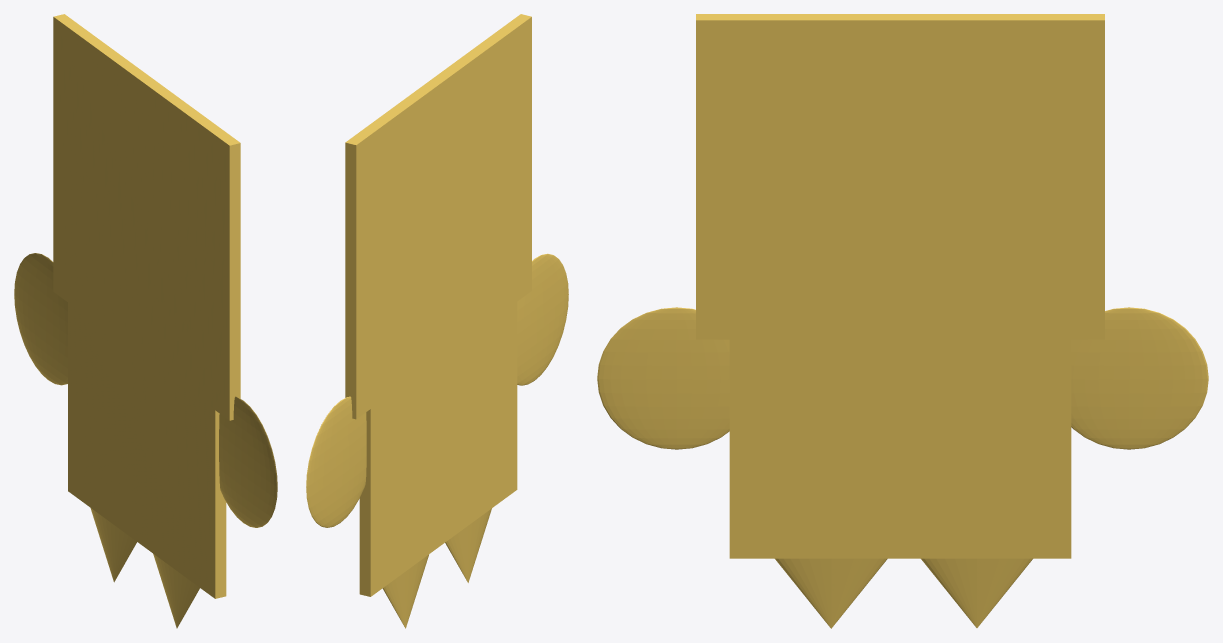
Rendered from player_cokie.fbx.
3 views of the same model, side by side, from view 1: azimuth 30°, elevation 25°; view 2: azimuth 150°, elevation 25°; view 3: azimuth 270°, elevation 25° (orthographic). The views are drawn at different scales.
Parts seen in each view (by area): view 1: 円錐.001; view 2: 円錐.001; view 3: 円錐.001.
Boxes of the visible parts, left/top/right/bottom form: 円錐.001: left=14, top=14, right=277, bottom=628; 円錐.001: left=306, top=14, right=568, bottom=628; 円錐.001: left=597, top=14, right=1208, bottom=628.
Size of the model in its own units: 11.45 by 518 by 469.
